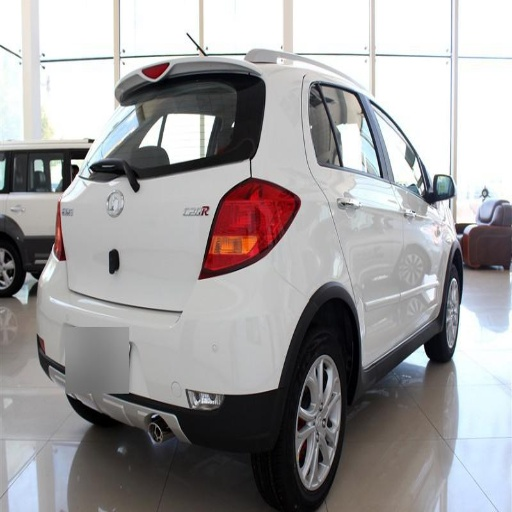back_bumper: (38, 250, 307, 448)
back_right_door: (305, 78, 402, 354)
tailgate: (139, 201, 214, 310)
trunk: (65, 159, 244, 310)
